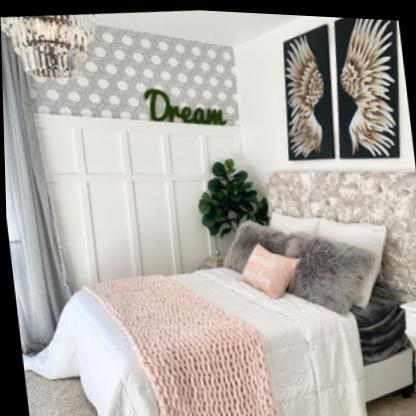Bed: (45, 147, 416, 416)
Curtains: (1, 27, 72, 355)
